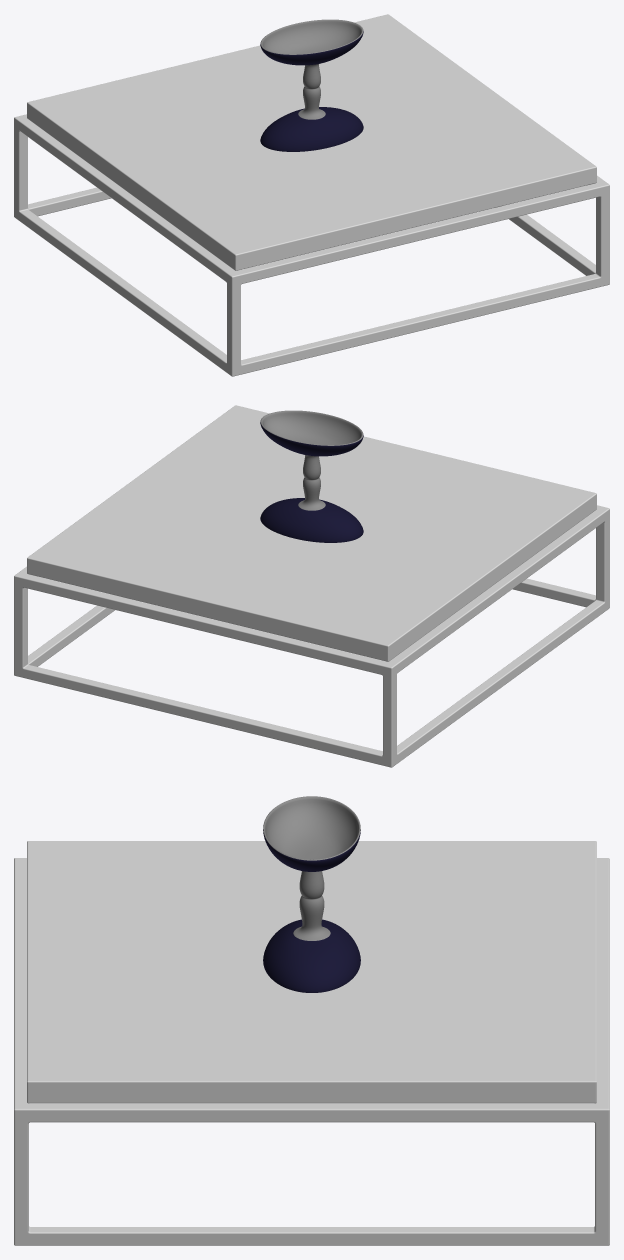
Rendered from San Marco_low.fbx.
The picture shows the model from 3 angles, top to bottom: view 1: azimuth 30°, elevation 25°; view 2: azimuth 150°, elevation 25°; view 3: azimuth 270°, elevation 25°; orthographic projection. The views are drawn at different scales.
Visible parts, largest first — view 1: San Marco-B, Vulcano B; view 2: San Marco-B, Vulcano B; view 3: San Marco-B, Vulcano B.
Boxes of the visible parts, box(x1,y1,x2,y2) form: San Marco-B: box(14, 14, 609, 376); Vulcano B: box(260, 19, 363, 151); San Marco-B: box(14, 405, 609, 767); Vulcano B: box(260, 410, 363, 542); San Marco-B: box(14, 841, 609, 1245); Vulcano B: box(263, 796, 360, 992).
Bounding box in the file's own units: 120 × 64.95 × 120.
